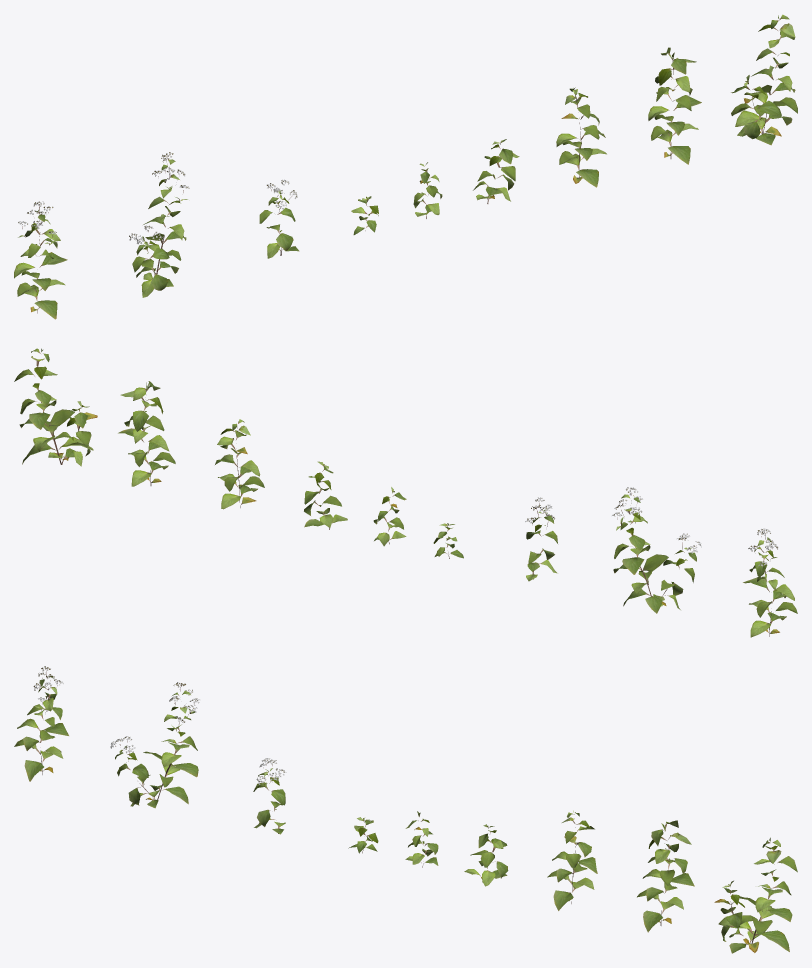
The model's file is shrub_01_1k_lo.glb.
3 views of the same model, one above another, from view 1: azimuth 30°, elevation 25°; view 2: azimuth 150°, elevation 25°; view 3: azimuth 330°, elevation 25° (orthographic). The views are drawn at different scales.
Parts seen in each view (by area): view 1: shrub_01_a; view 2: shrub_01_a; view 3: shrub_01_a.
Boxes of the visible parts, x1=… form: shrub_01_a: x1=14, y1=14, x2=797, y2=319; shrub_01_a: x1=14, y1=348, x2=797, y2=637; shrub_01_a: x1=14, y1=666, x2=797, y2=953.
Size of the model in its own units: 2.59 by 0.3949 by 0.218.
1 material, 1 textured.
